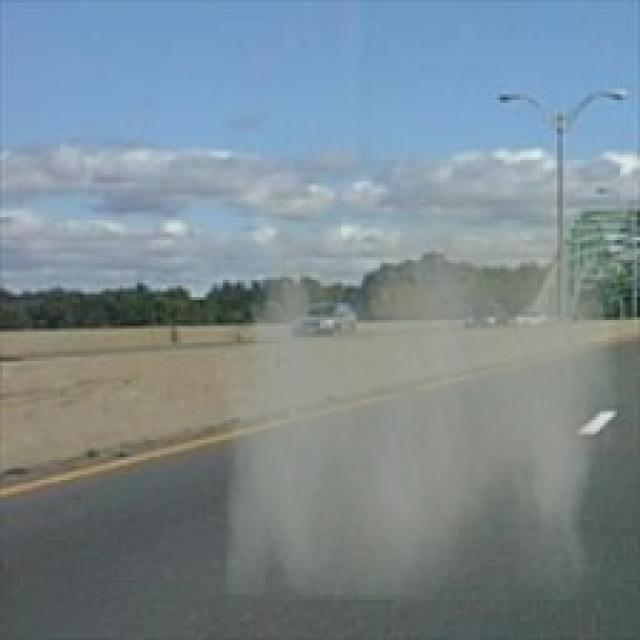Smoke: (225, 191, 618, 600)
